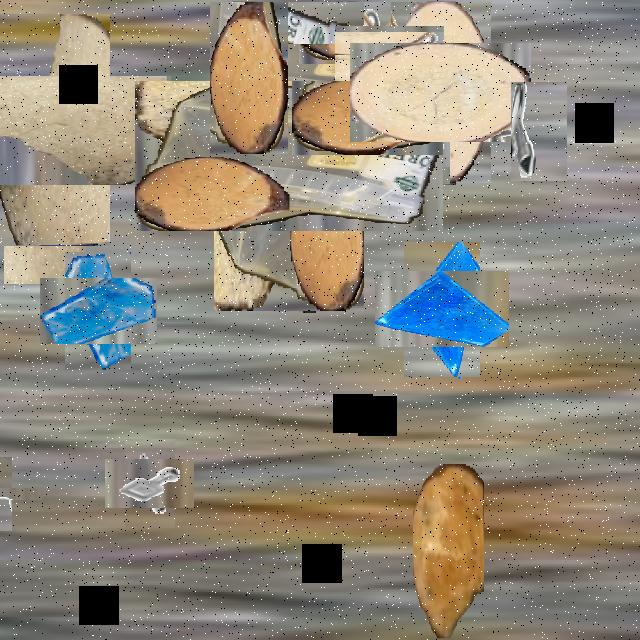glass: (4, 138, 86, 284), (389, 257, 495, 362), (52, 265, 144, 357)
metal: (346, 14, 432, 100), (511, 82, 567, 181), (115, 449, 185, 518), (0, 472, 27, 515)
plastic: (174, 42, 404, 271)
wood: (247, 23, 429, 205), (0, 44, 140, 215), (371, 22, 511, 163), (413, 464, 483, 638), (210, 2, 288, 154)
